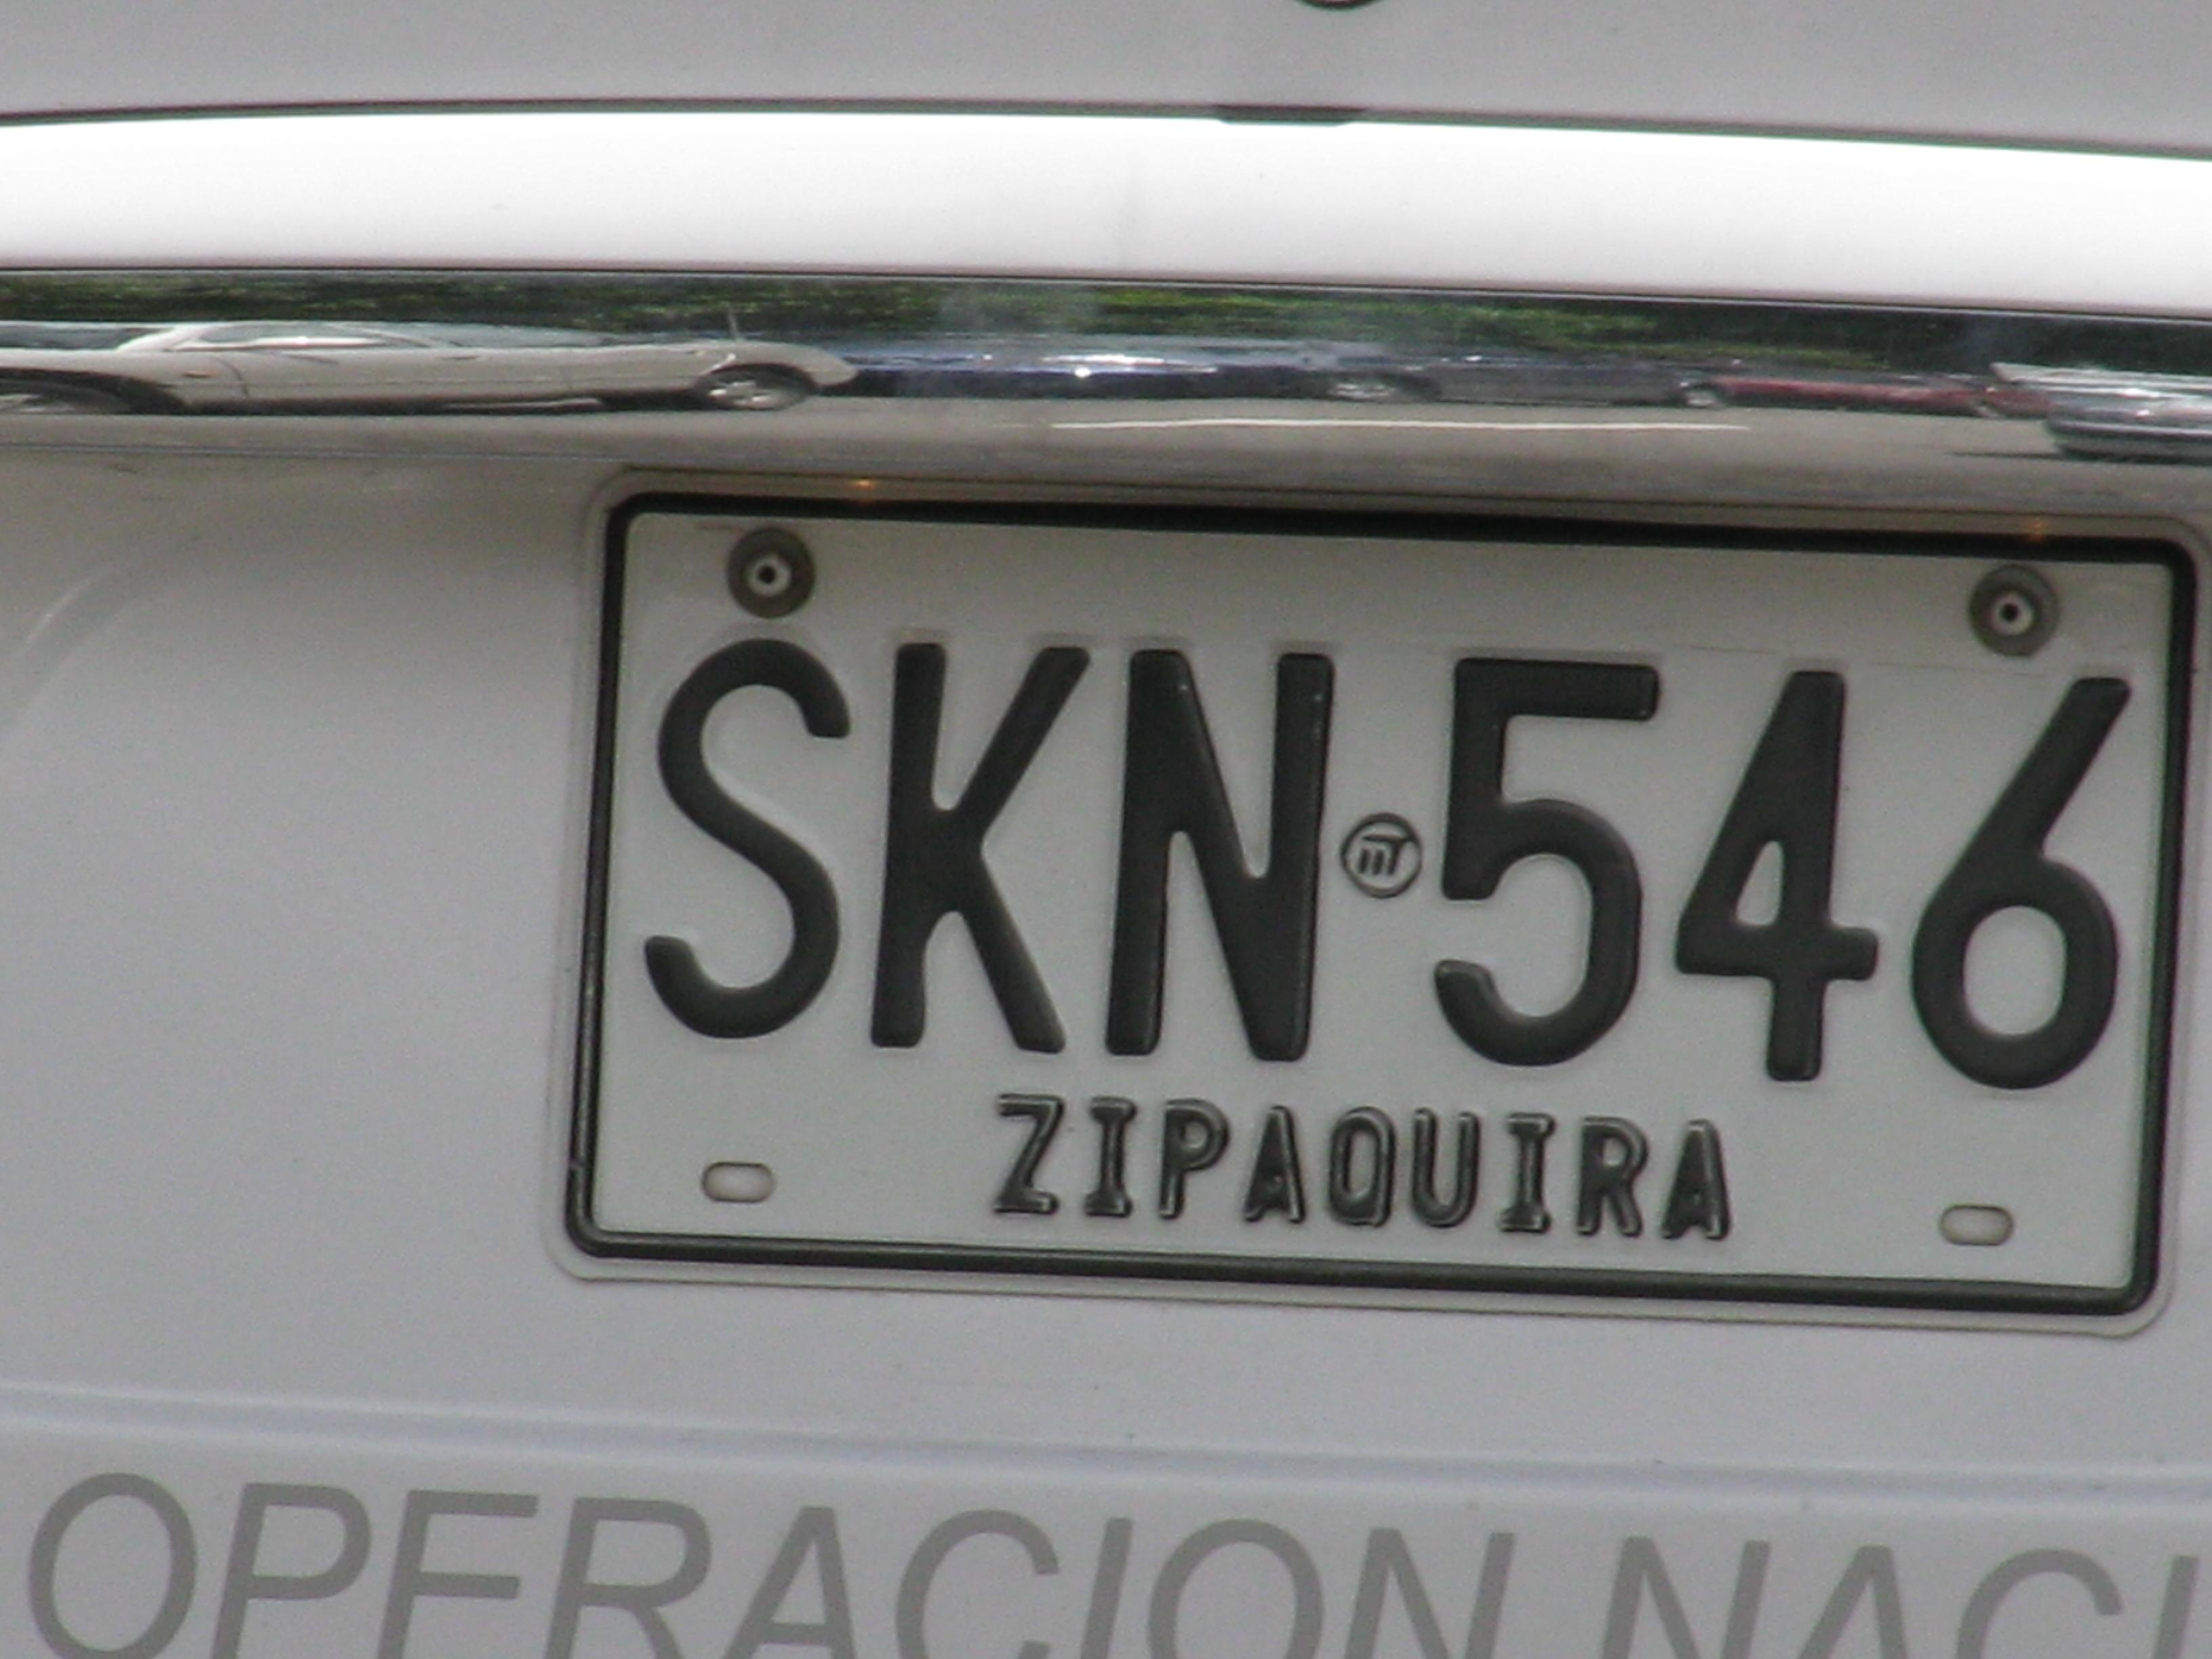placas: (526, 410, 2202, 1342)
